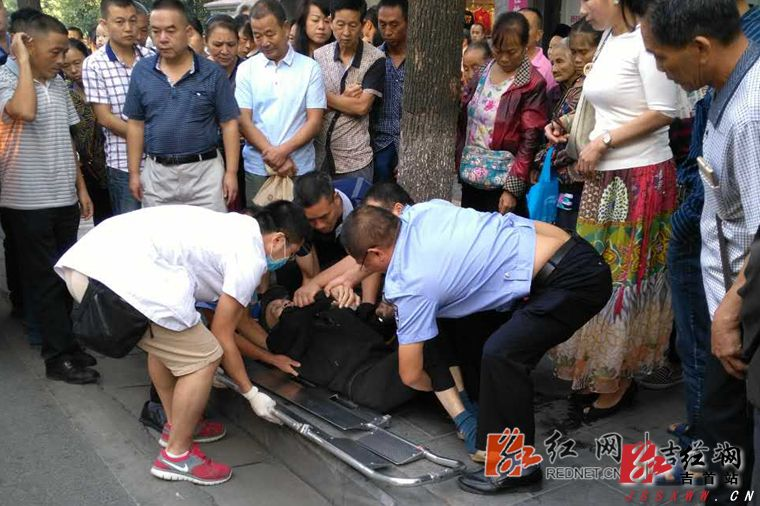10+: (1, 2, 760, 488)
down: (251, 285, 480, 454)
